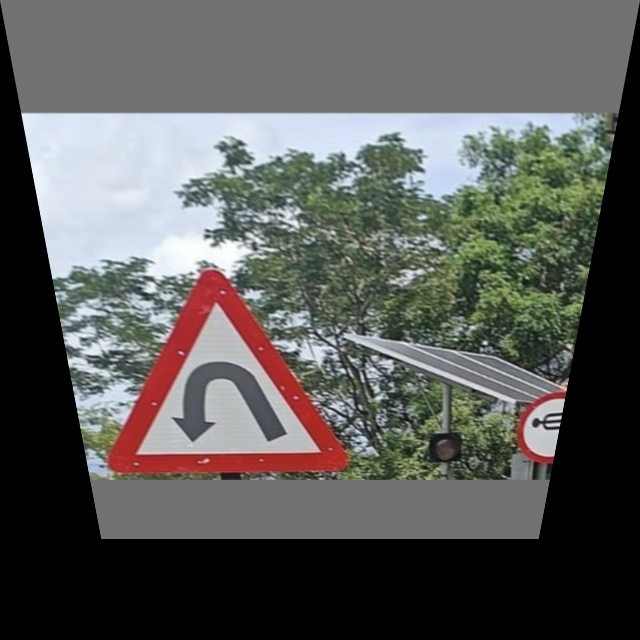Left_Hair_Pin_Bend: (75, 269, 359, 472)
